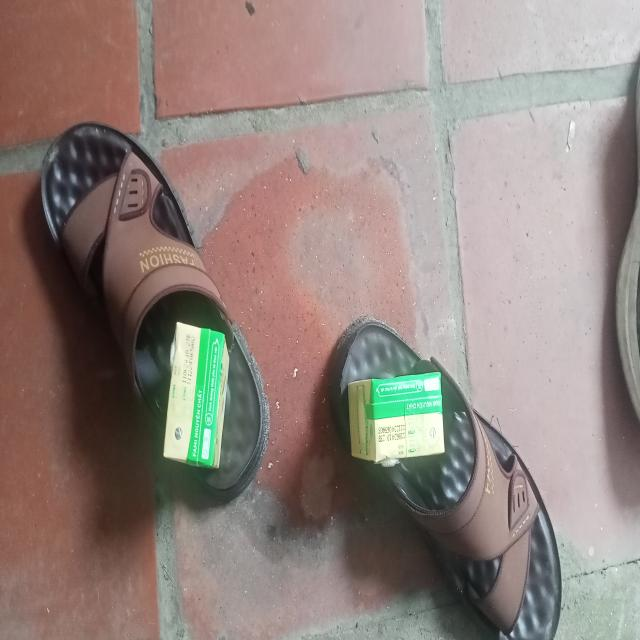Fami: (348, 374, 447, 467), (169, 329, 232, 470)
